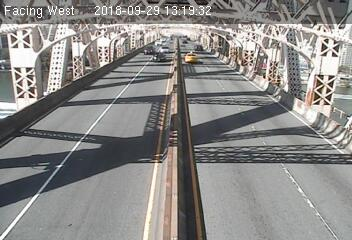car: (183, 51, 199, 64), (152, 51, 166, 64), (142, 43, 156, 54), (195, 43, 205, 51)
